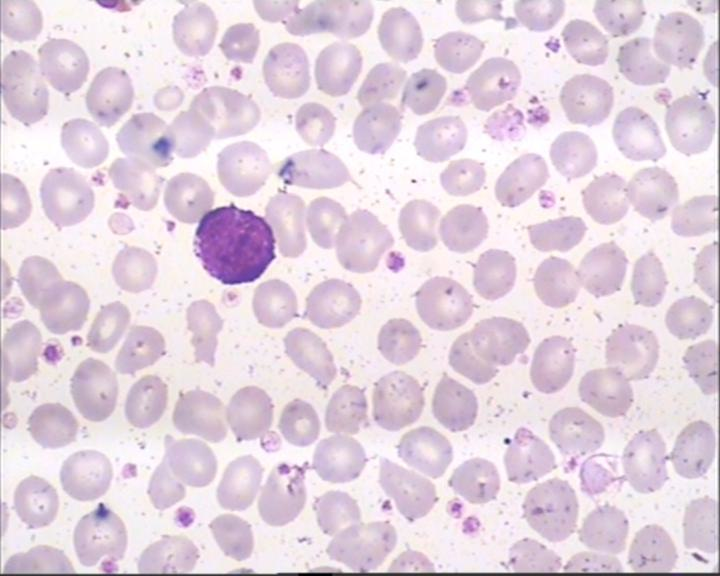baso: (185, 201, 279, 284)
